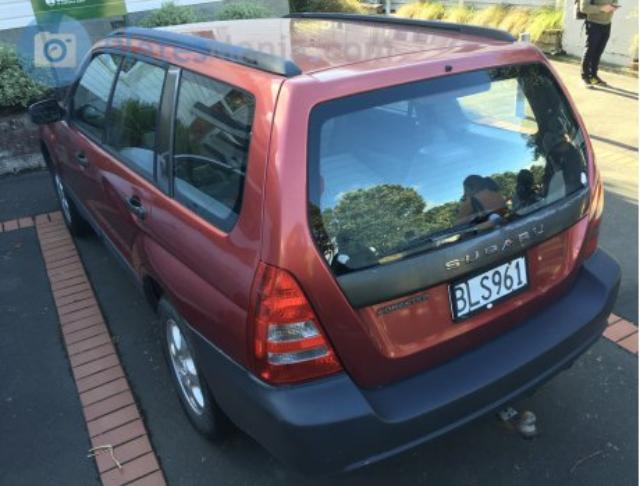Rego: (450, 255, 528, 324)
